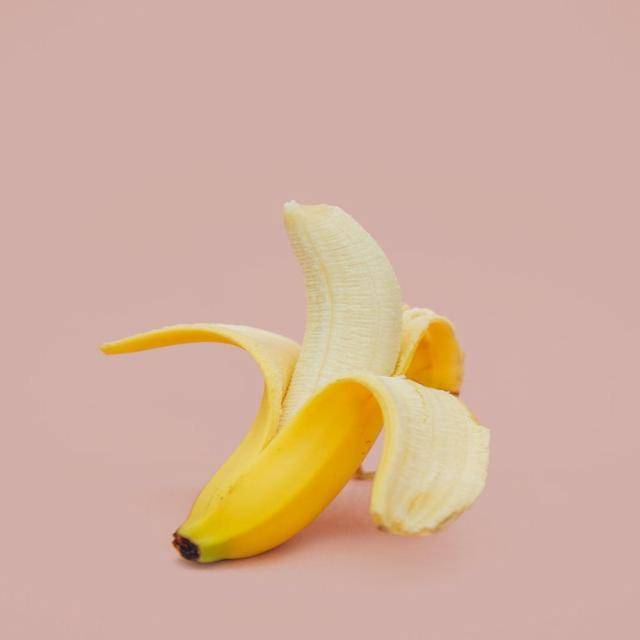banana: (87, 188, 514, 578)
